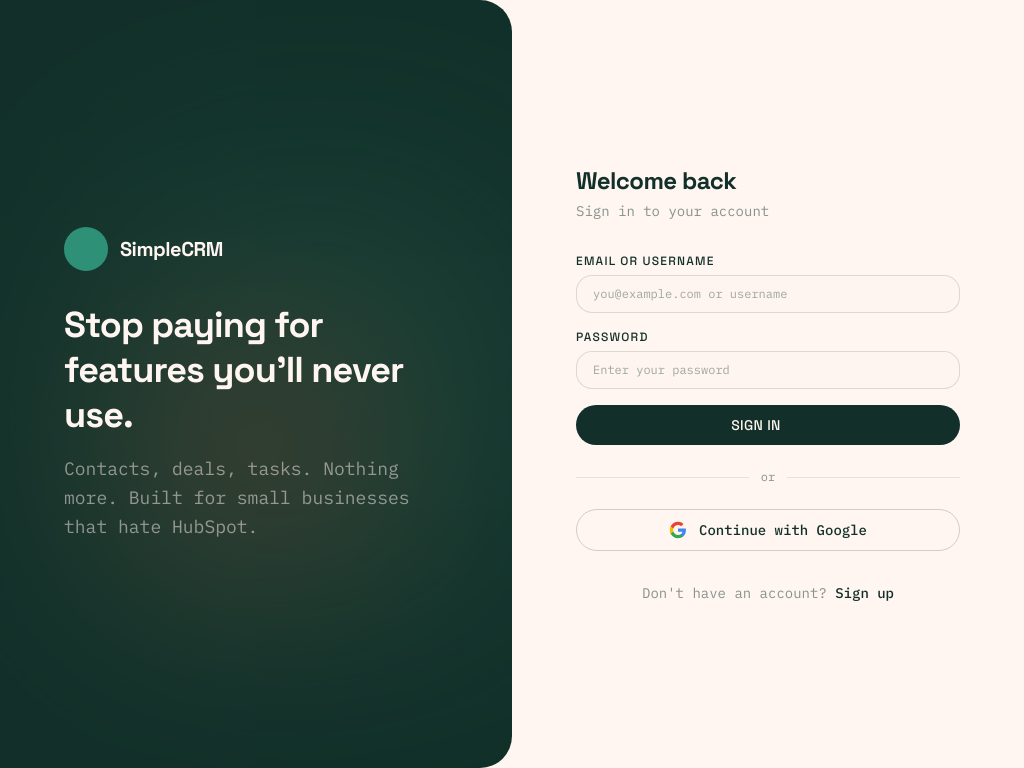
Test case: Login › shows loading state during submission
Type "test@test.com" into the field labelled "Email or Username" at (768, 294), box left=576, top=275, right=960, bottom=313
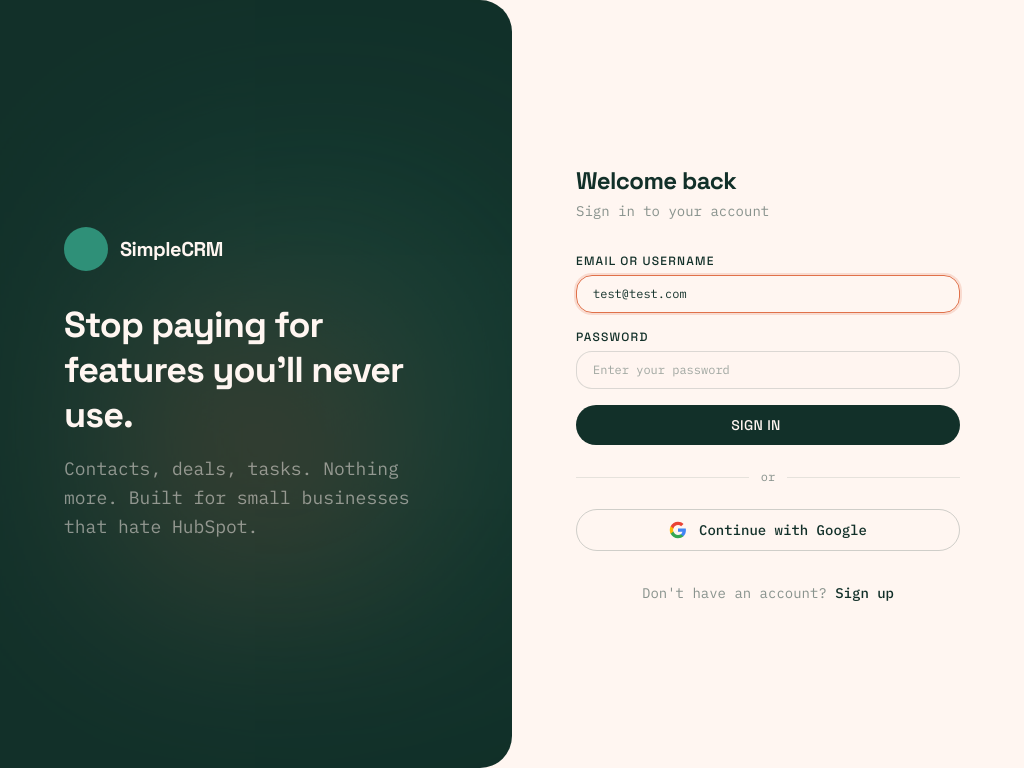
Type "password123" into the password field labelled "Password" at (768, 370), box left=576, top=351, right=960, bottom=389
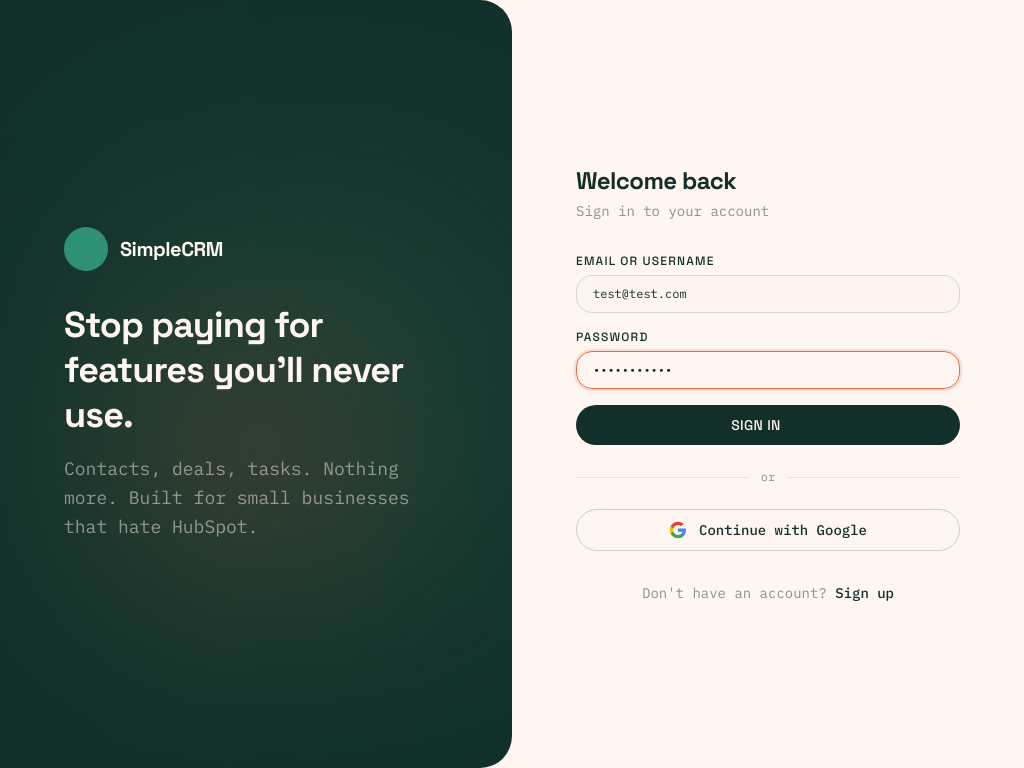
Click the button "Sign in" at (768, 425), box left=576, top=405, right=960, bottom=445
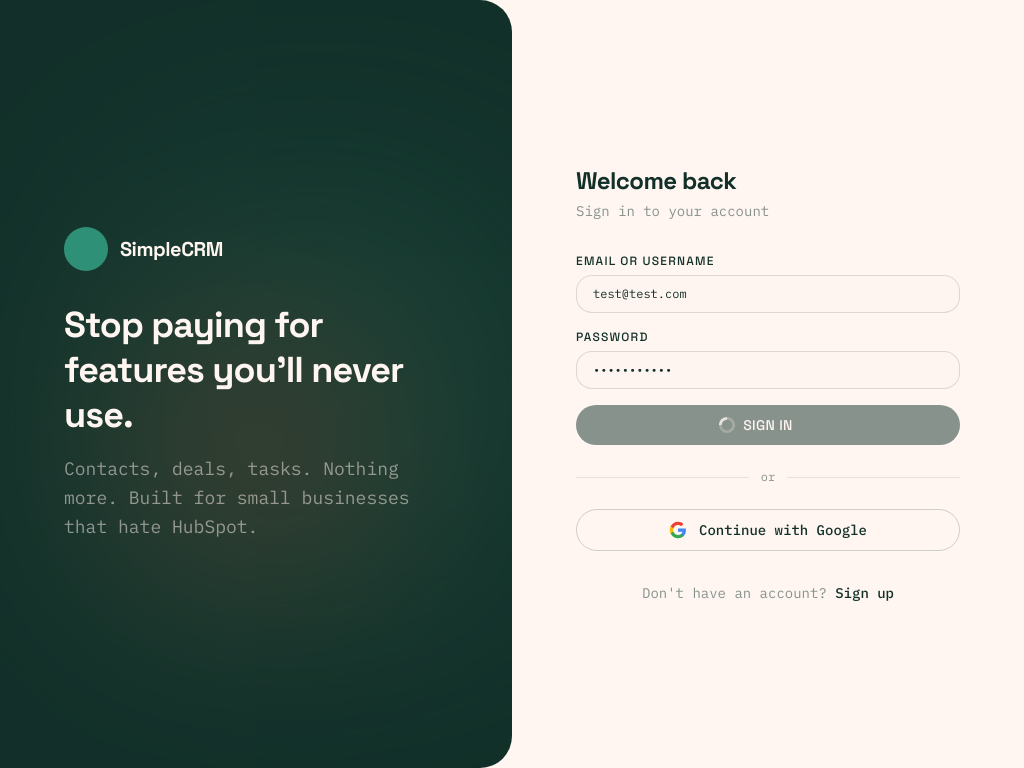
Check: the button "Sign in" is disabled, box left=576, top=405, right=960, bottom=445
